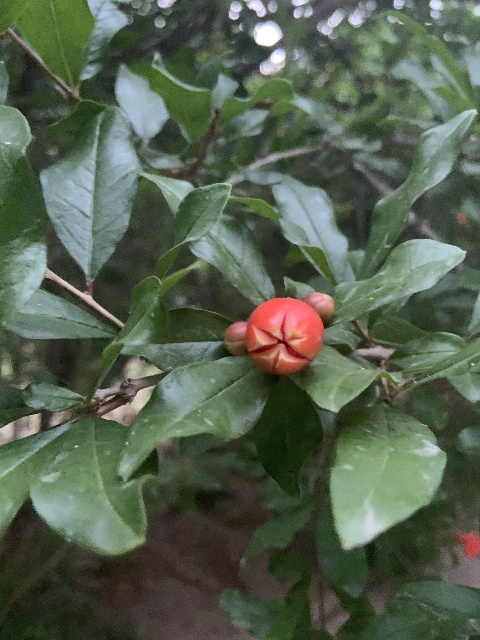bud: (303, 292, 334, 323), (223, 320, 248, 356)
flower: (244, 297, 324, 374), (455, 530, 480, 560)
